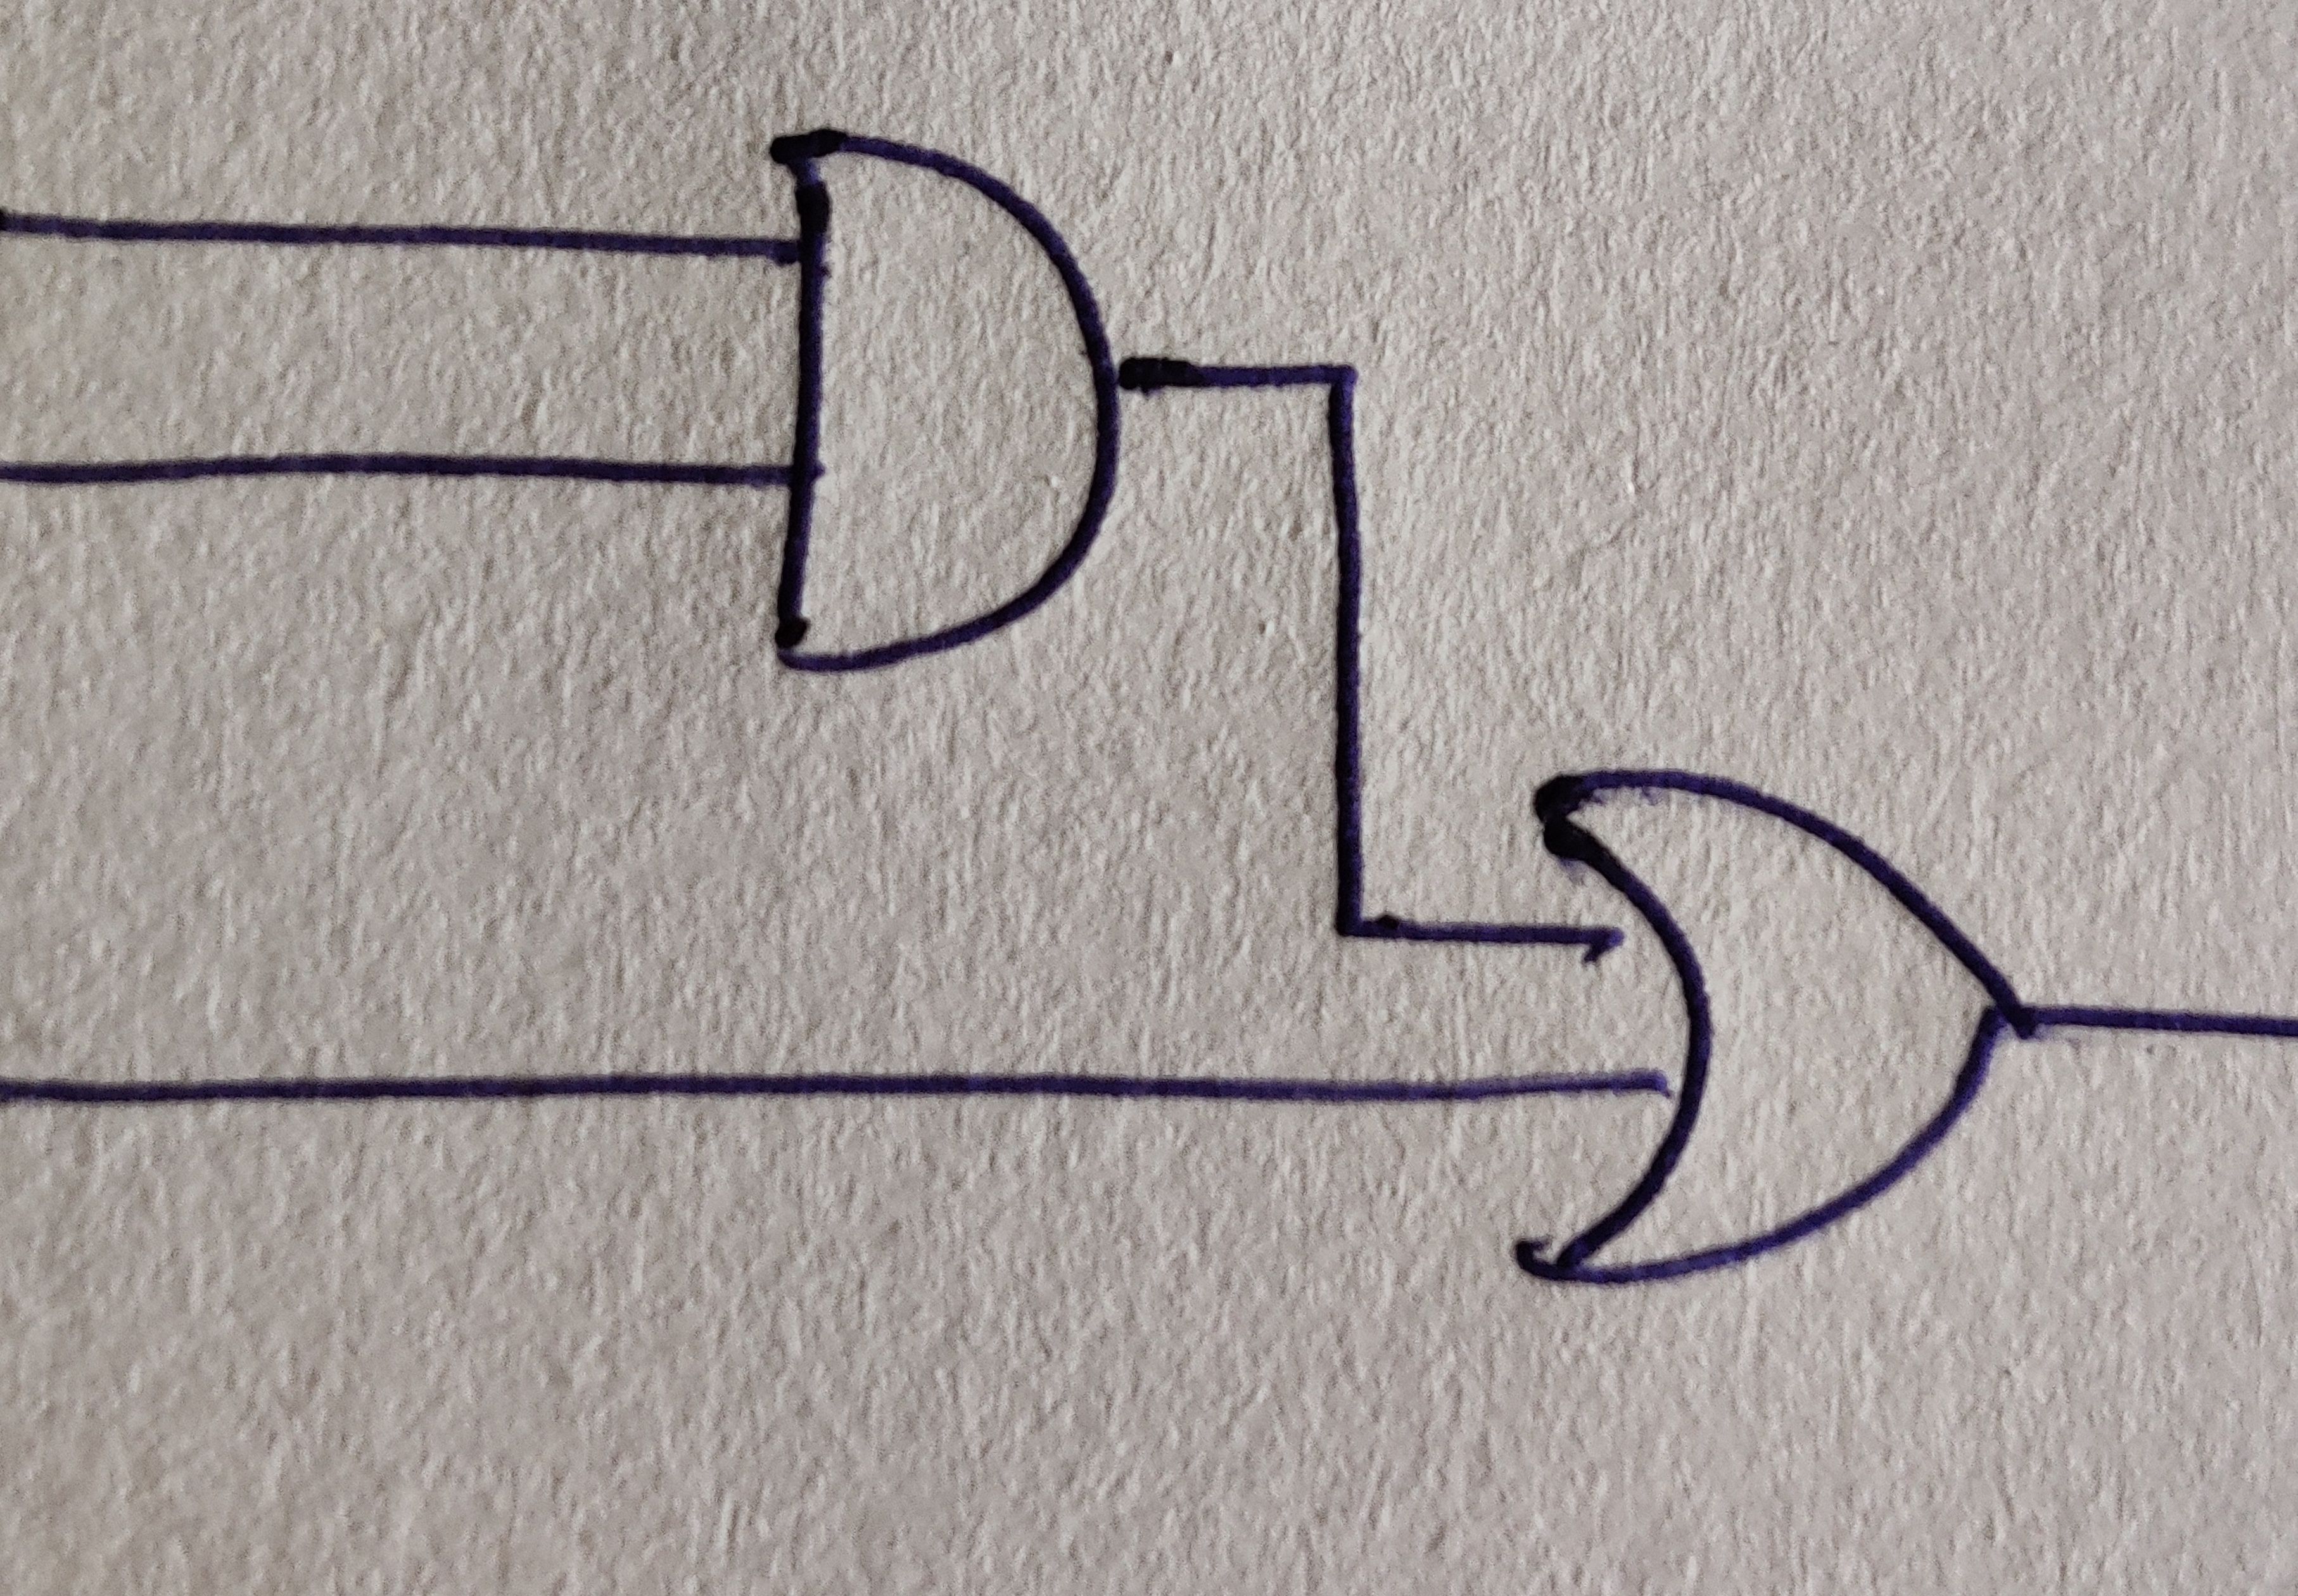and: (767, 126, 1121, 678)
or: (1516, 772, 2038, 1285)
